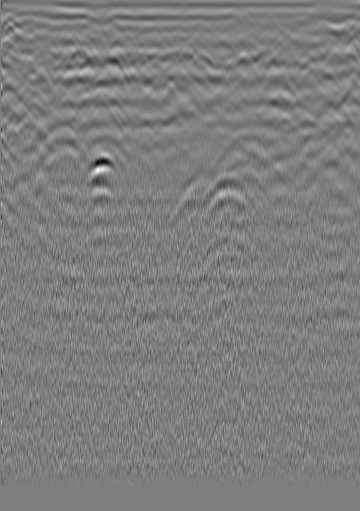가스: (83, 153, 119, 185)
상수: (309, 31, 329, 51)
오수: (17, 17, 37, 37)
우수: (191, 29, 211, 49)
